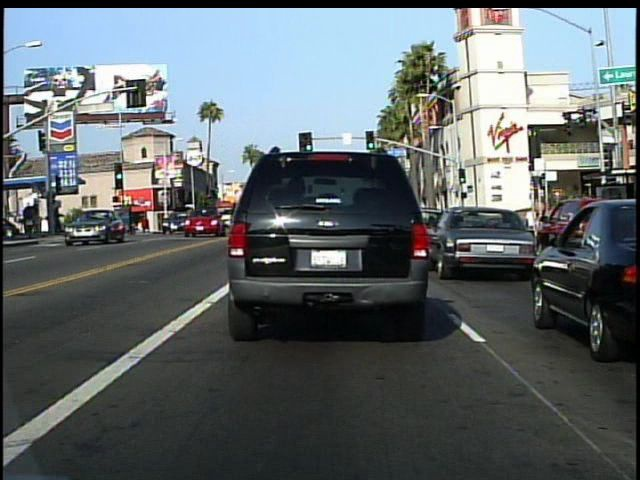person: (19, 203, 41, 242)
